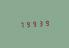nine: (24, 20, 29, 28), (42, 19, 47, 27), (30, 20, 35, 27)
seven: (18, 21, 23, 28)
three: (36, 19, 41, 27)
